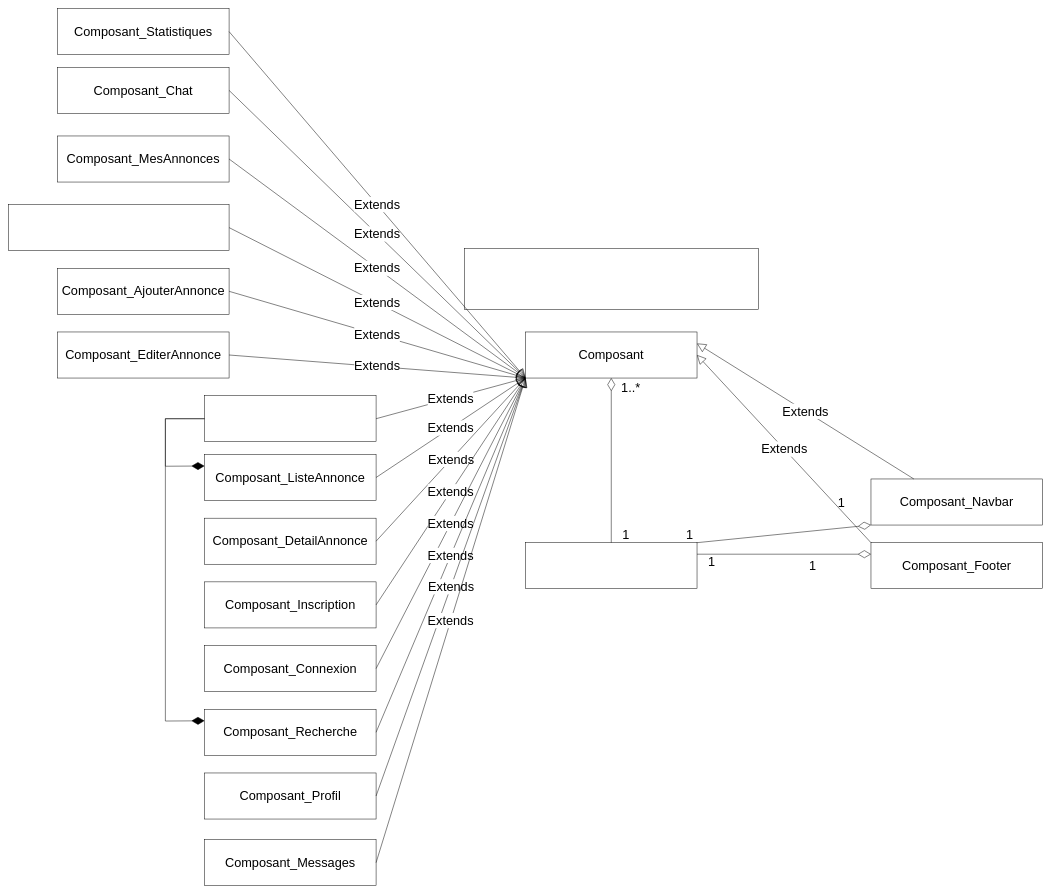
Image size: 1051x894. Some labels were removed from this diagram. Each missing label, with the box of its shape:
Composant_AnnoncesSauvegardés: (8, 204, 229, 251)
Composant_HomePage: (204, 395, 376, 442)
LeMauvaisCoin: (525, 542, 697, 589)
Site web: (464, 248, 758, 309)
